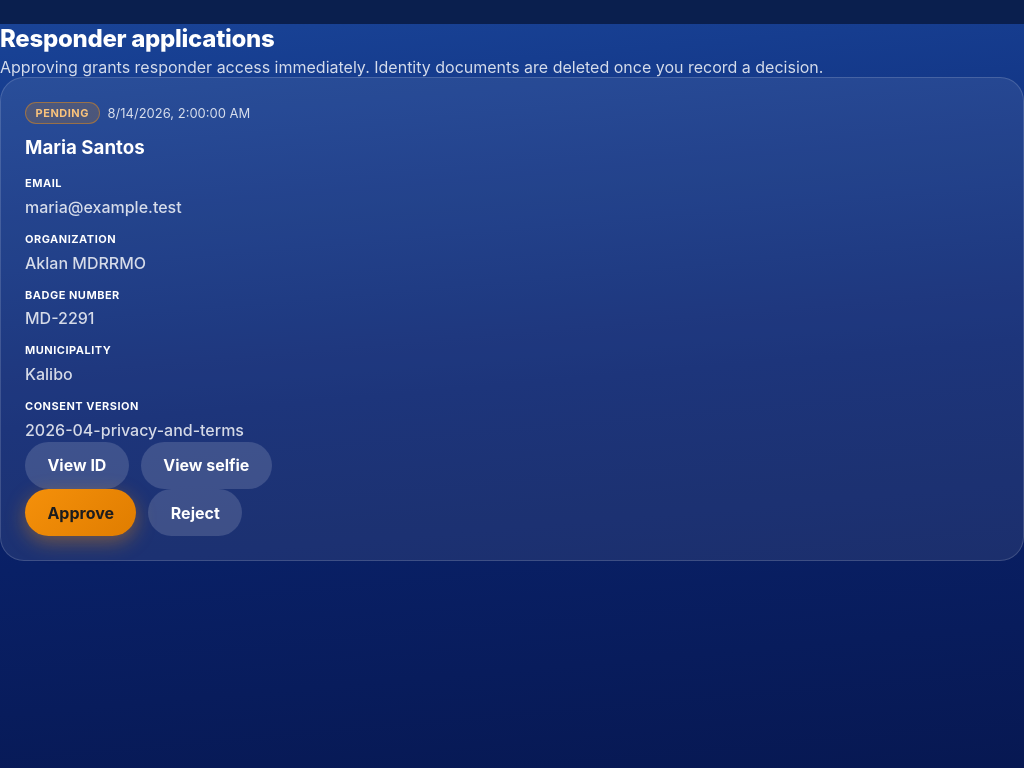
Test case: review queue route › decides only after confirmation
Click the button "Approve". click: (81, 513)
box: [25, 489, 136, 536]
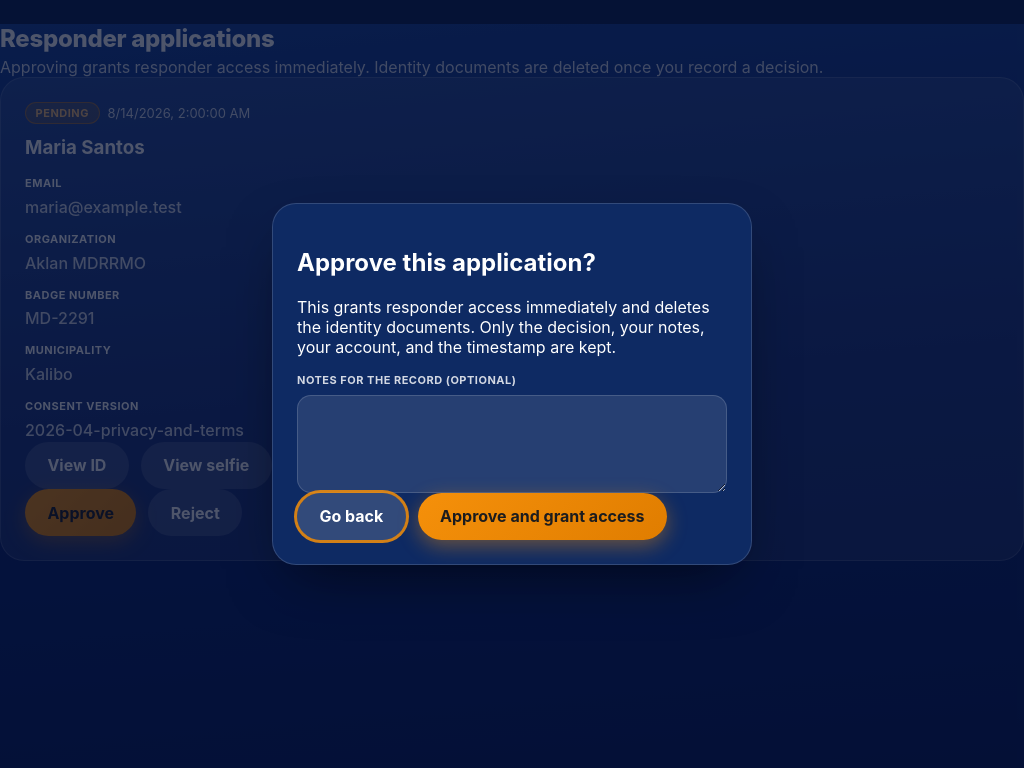
Click the button "Go back". click: (351, 516)
box: [297, 493, 406, 540]
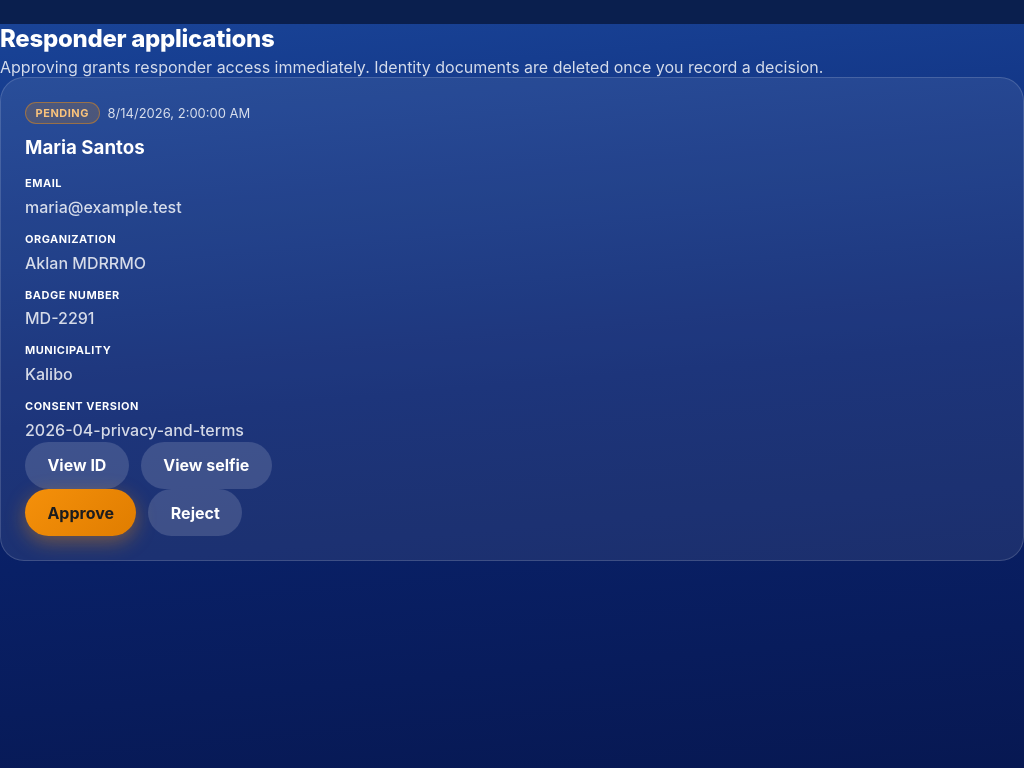
Click the button "Approve". click: (81, 513)
box: [25, 489, 136, 536]
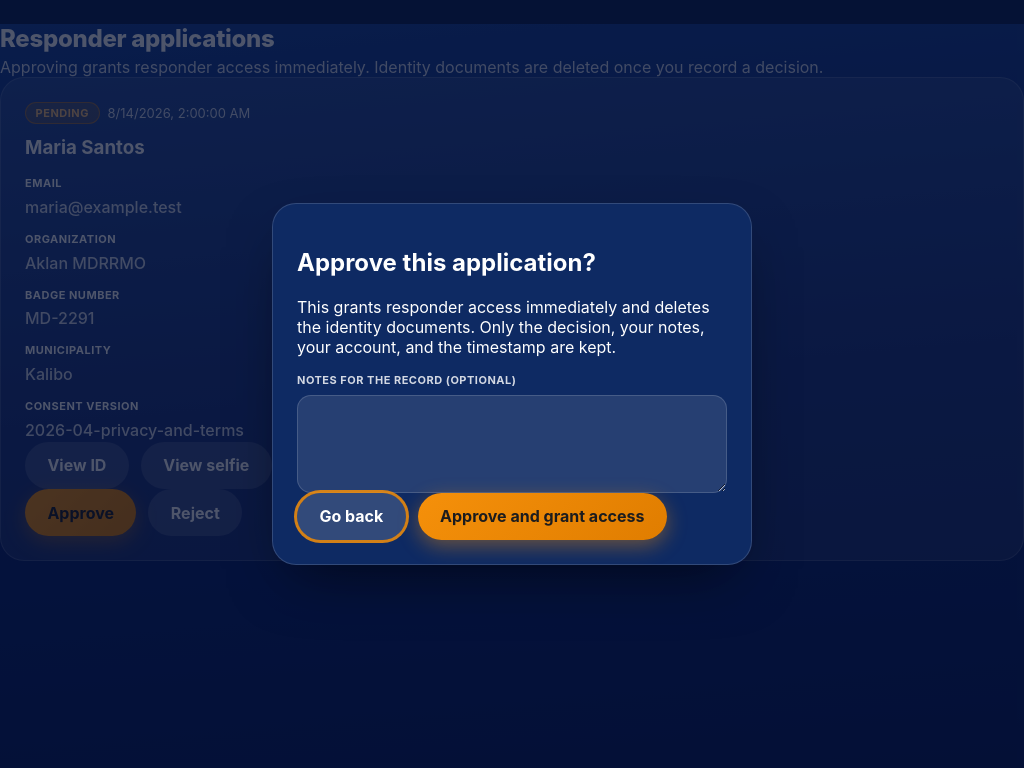
Type "Badge confirmed by phone." into the text box labelled "Notes for the record (optional)". click: (512, 444)
box: [297, 395, 727, 493]
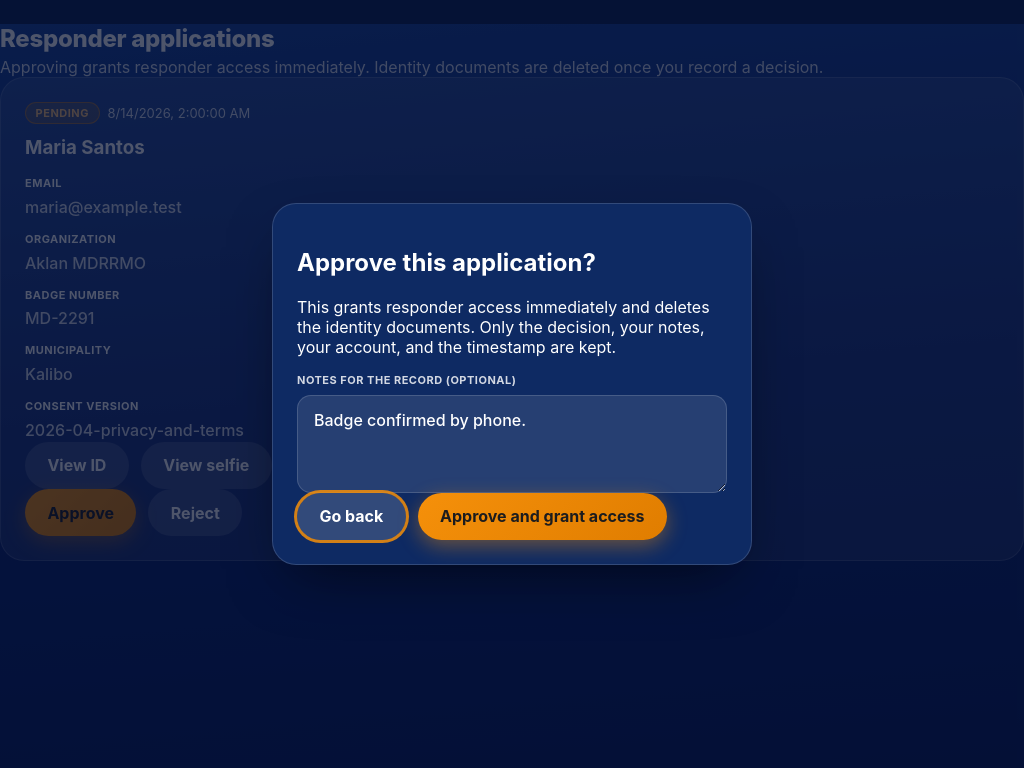
Click the button "Approve and grant access". click: (542, 516)
box: [418, 493, 667, 540]
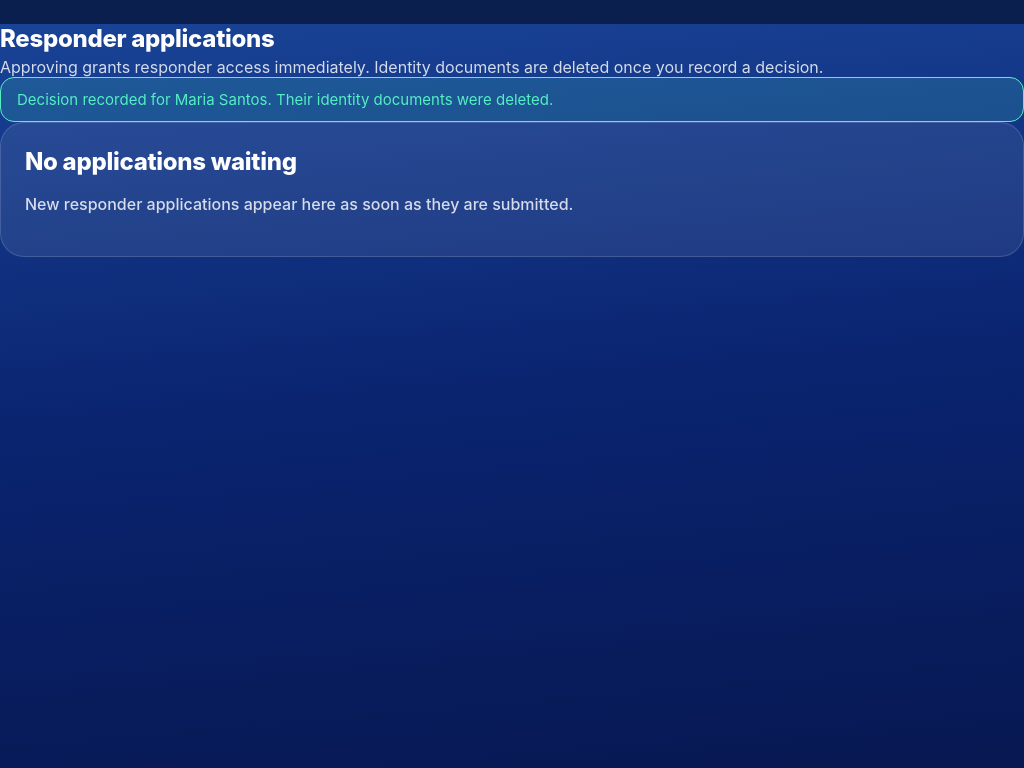
Now the text "Decision recorded for Maria Santos. Their identity documents were deleted." is shown, box [0, 77, 1023, 122]
